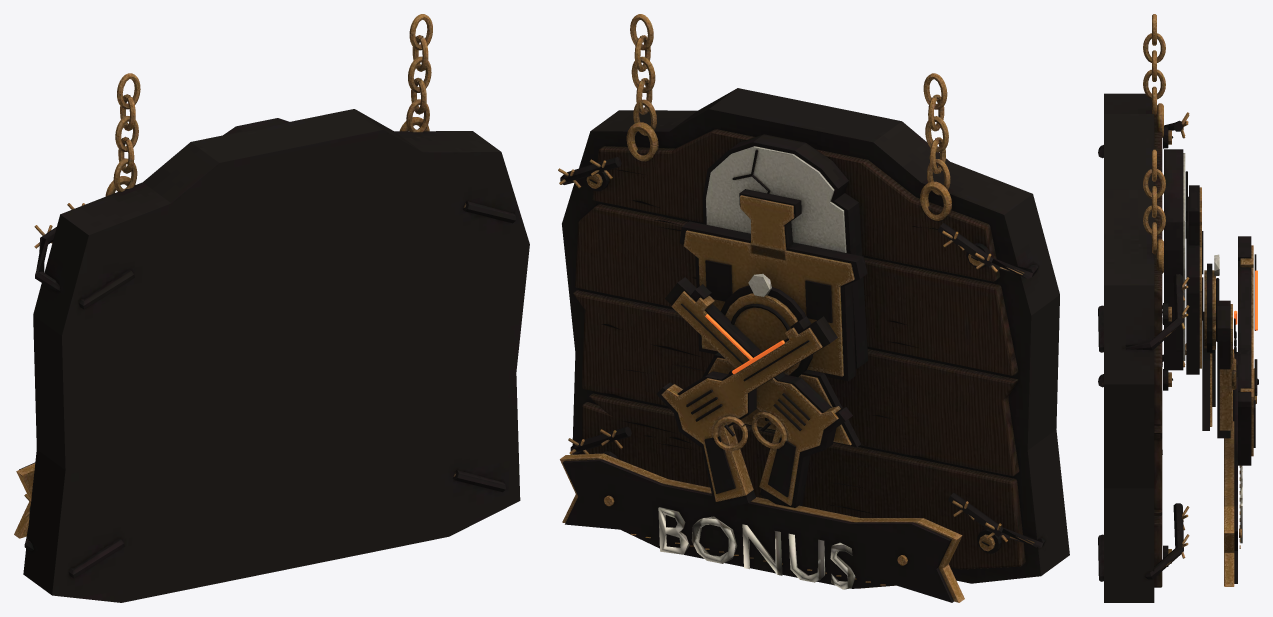
The picture shows the model from 3 angles, left to right: view 1: azimuth 30°, elevation 25°; view 2: azimuth 150°, elevation 25°; view 3: azimuth 270°, elevation 25°; orthographic projection. The views are drawn at different scales.
Visible parts, largest first — view 1: Ink_and_worn_dark_leather, Rusted_iron_and_tarnished_brass; view 2: Splintered_dark_brown_wood, Ink_and_worn_dark_leather, Rusted_iron_and_tarnished_brass, Sun_bleached_bone; view 3: Ink_and_worn_dark_leather, Rusted_iron_and_tarnished_brass, Splintered_dark_brown_wood, Sun_bleached_bone.
Part boxes in pixels (bbox=[...]): Ink_and_worn_dark_leather: bbox=[19, 109, 529, 602]; Rusted_iron_and_tarnished_brass: bbox=[14, 14, 466, 538]; Splintered_dark_brown_wood: bbox=[573, 129, 1025, 569]; Ink_and_worn_dark_leather: bbox=[560, 88, 1069, 602]; Rusted_iron_and_tarnished_brass: bbox=[558, 14, 1034, 602]; Sun_bleached_bone: bbox=[658, 146, 855, 589]; Ink_and_worn_dark_leather: bbox=[1098, 93, 1258, 602]; Rusted_iron_and_tarnished_brass: bbox=[1102, 14, 1256, 586]; Splintered_dark_brown_wood: bbox=[1154, 117, 1162, 587]; Sun_bleached_bone: bbox=[1183, 153, 1242, 543].
Bounding box in the file's own units: 1.64 × 1.67 × 0.5434.
5 materials, 4 textured.
